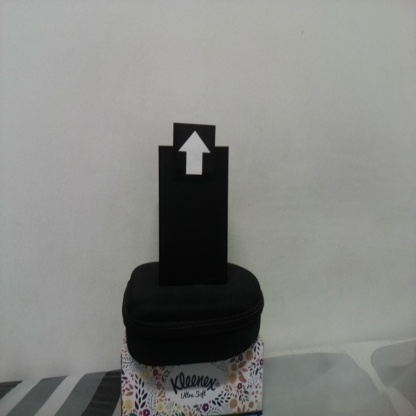id_1: (173, 123, 216, 187)
